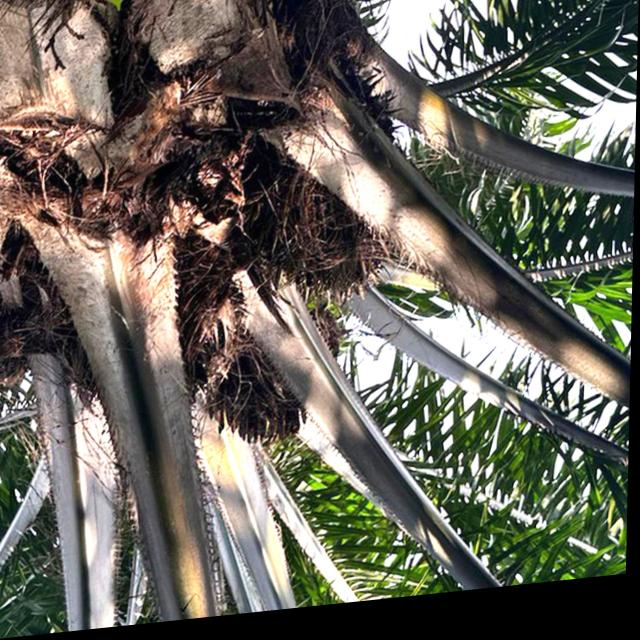ripe: (272, 186, 402, 331)
